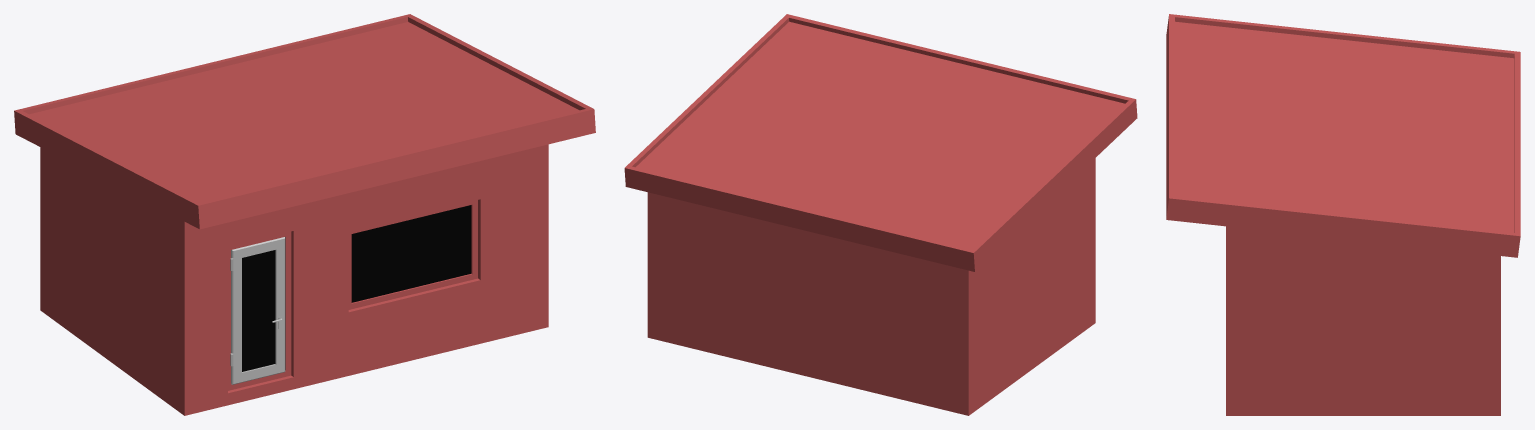
Rendered from SM_shop_3.fbx.
3 renders of one model, left to right at view 1: azimuth 30°, elevation 25°; view 2: azimuth 150°, elevation 25°; view 3: azimuth 270°, elevation 25°, orthographic. The views are drawn at different scales.
Visible parts, largest first — view 1: Cube_5, Cylinder_7; view 2: Cube_5; view 3: Cube_5.
Part boxes in pixels (x1,y1,x2,y2): Cube_5: [14, 14, 595, 415]; Cylinder_7: [230, 237, 285, 384]; Cube_5: [624, 14, 1137, 415]; Cube_5: [1166, 14, 1520, 415].
Bounding box in the file's own units: 686 × 391 × 557.
